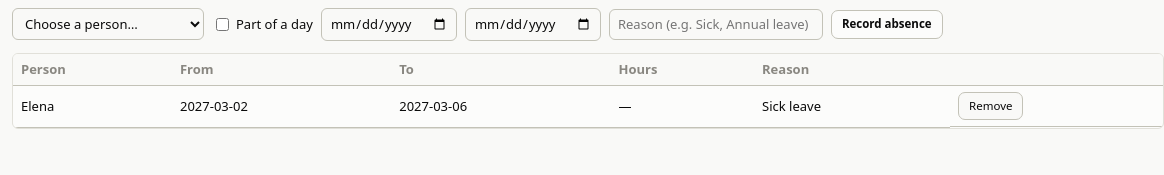
the panel › shows a server refusal as a sentence and does not clear silently
The image size is (1164, 175).
Expected: the text "Sick leave" is shown, [754,85,950,127]
Select "Tom" in the dropdown named "Person" at {"x": 108, "y": 24}, box [12,8,204,40]
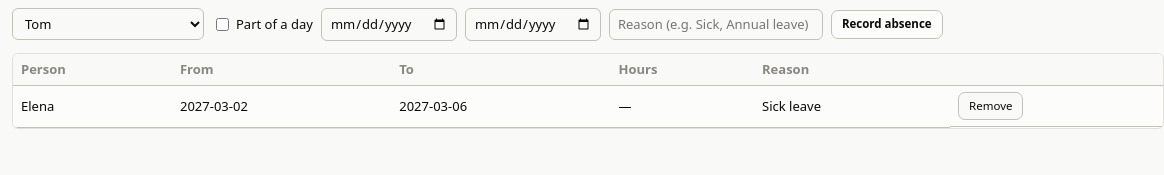
Type "2027-05-01" into the date field named "From" at {"x": 389, "y": 24}, box [321,8,457,41]
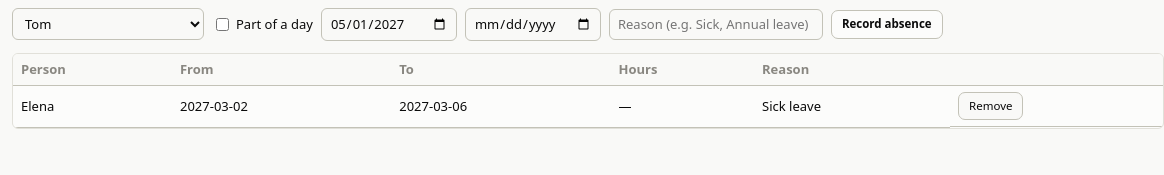
Type "2027-05-03" into the date field named "To" at {"x": 533, "y": 24}, box [465,8,601,41]
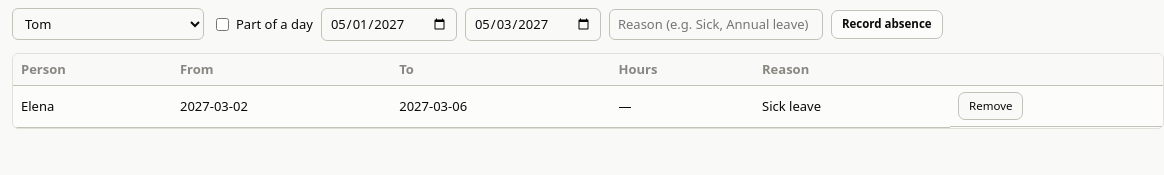
Type "Leave" into the field labelled "Reason" at {"x": 716, "y": 24}, box [609,9,823,40]
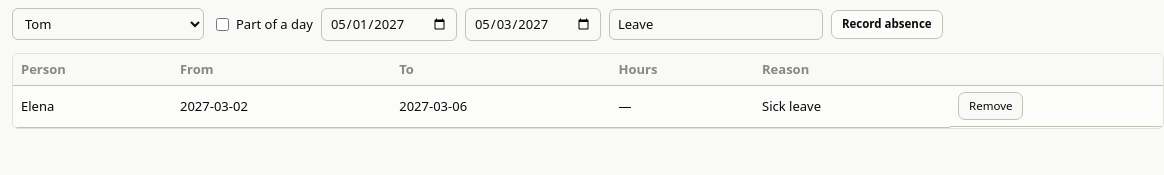
Click the button "Record absence" at {"x": 887, "y": 24}, box [831,10,943,39]
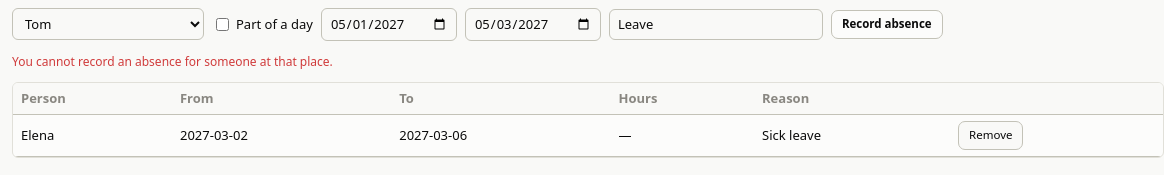
Expected: the text "You cannot record an absence for someone at that place." is shown, [12,53,333,70]
